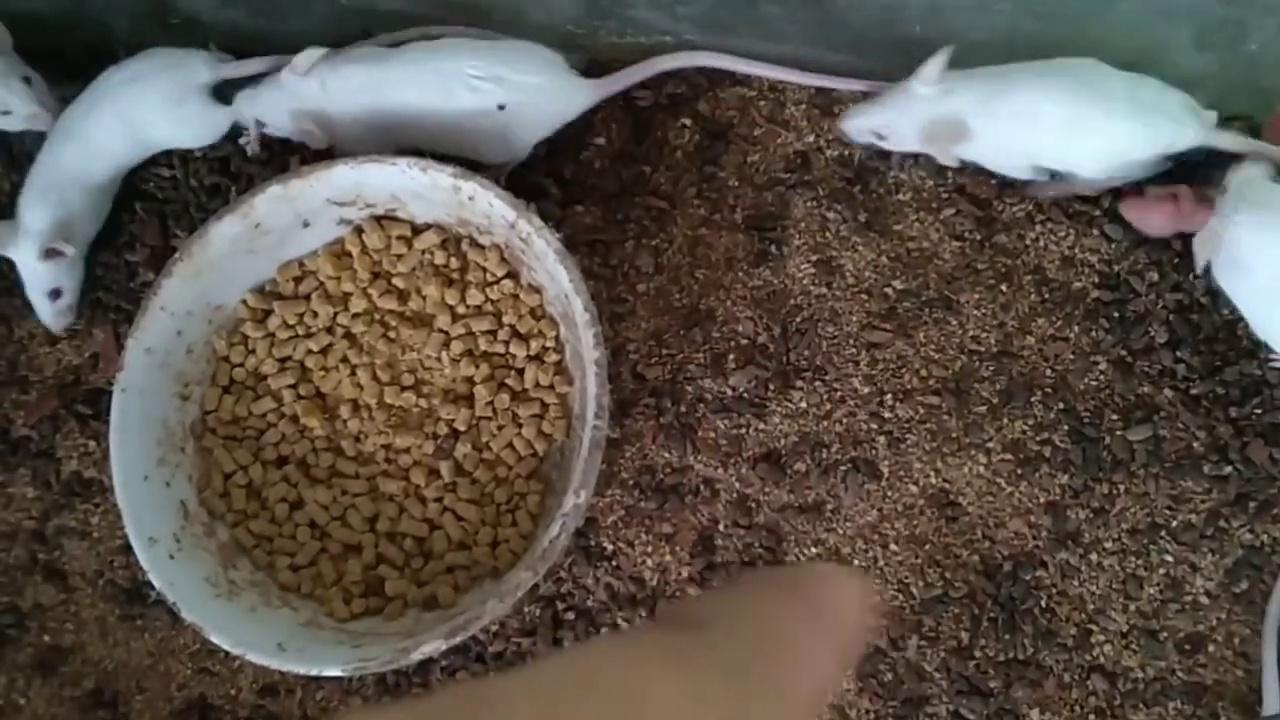rat: (237, 35, 841, 181), (0, 49, 235, 331), (842, 45, 1280, 180), (0, 22, 57, 127)
